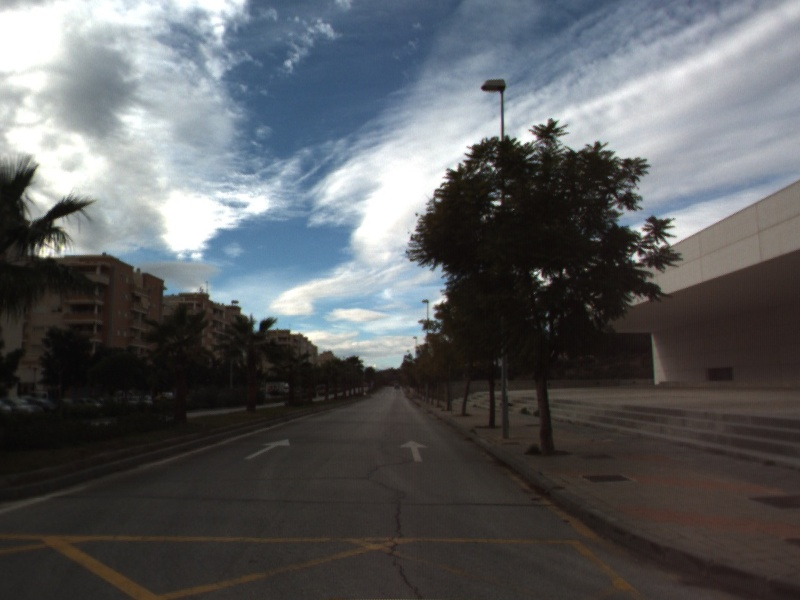STRAIGHT: (242, 437, 292, 461), (398, 438, 431, 464)
